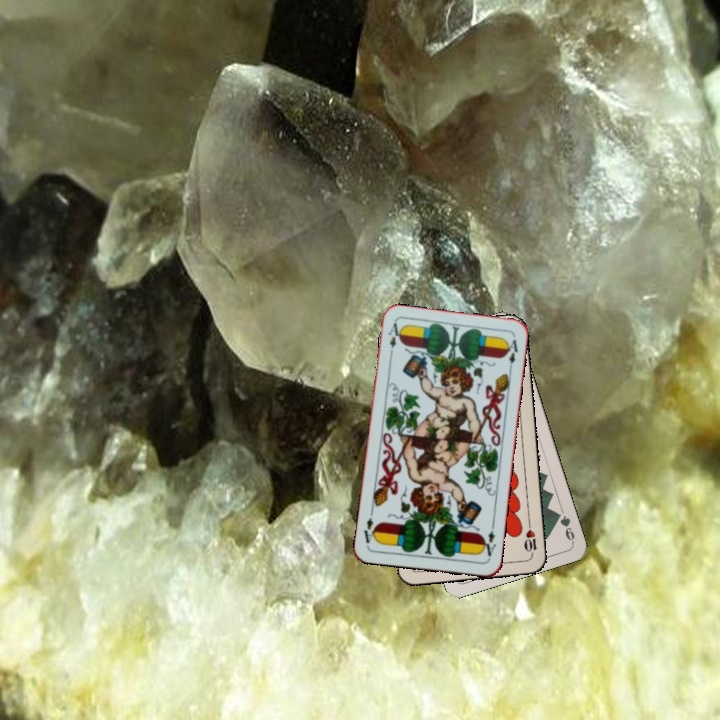EA: (478, 520, 499, 561), (384, 319, 403, 359)
G9: (551, 508, 577, 545)
H10: (520, 517, 540, 558)
